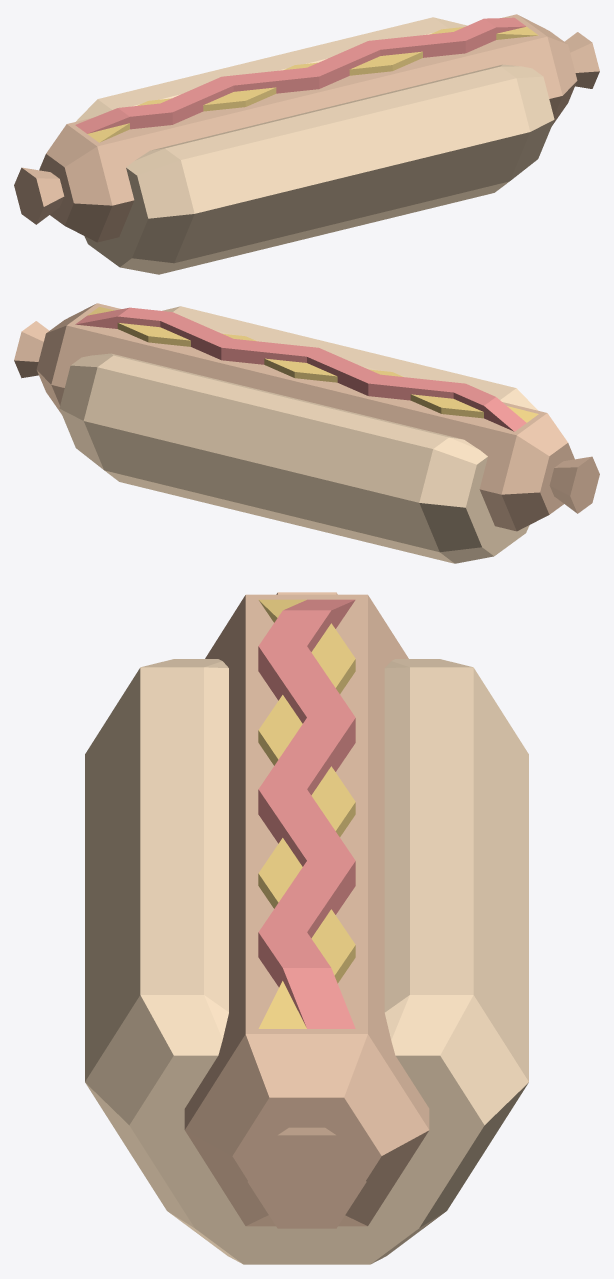
3 renders of one model, top to bottom at view 1: azimuth 30°, elevation 25°; view 2: azimuth 150°, elevation 25°; view 3: azimuth 270°, elevation 25°, orthographic. The views are drawn at different scales.
Visible parts, largest first — view 1: hotDog, sausage, sauce; view 2: hotDog, sausage, sauce; view 3: hotDog, sausage, sauce.
Boxes of the visible parts, left/top/right/bottom form: hotDog: left=76, top=17, right=554, bottom=274; sausage: left=14, top=14, right=599, bottom=242; sauce: left=75, top=17, right=538, bottom=142; hotDog: left=59, top=306, right=537, bottom=563; sausage: left=14, top=303, right=599, bottom=531; sauce: left=75, top=307, right=538, bottom=431; hotDog: left=85, top=659, right=528, bottom=1264; sausage: left=184, top=592, right=429, bottom=1228; sauce: left=258, top=599, right=355, bottom=1028.
Size of the model in its own units: 0.5859 by 0.1526 by 0.2026.
